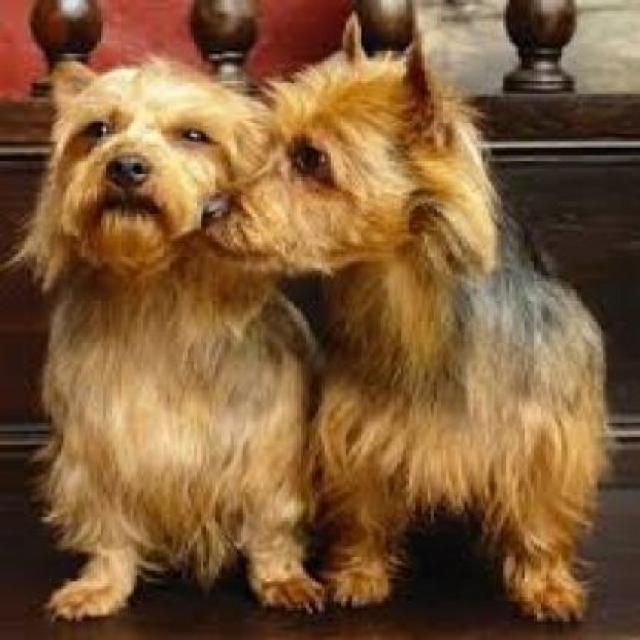animals: (222, 29, 546, 597), (31, 35, 268, 513)
